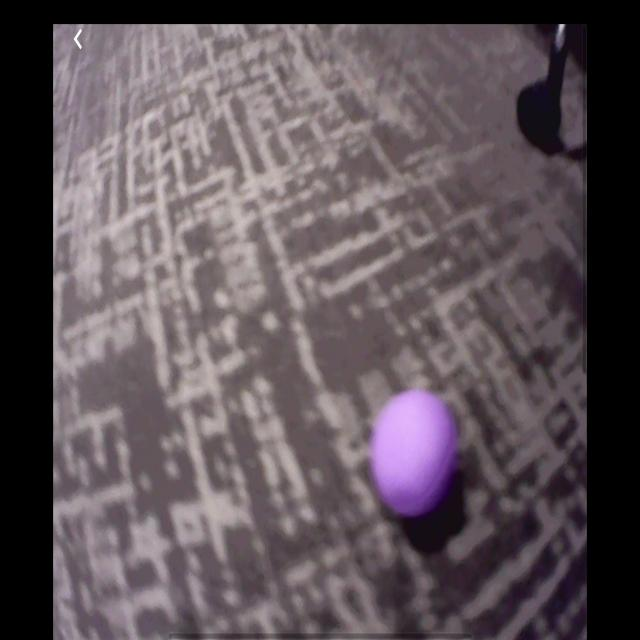ball: (374, 392, 458, 512)
